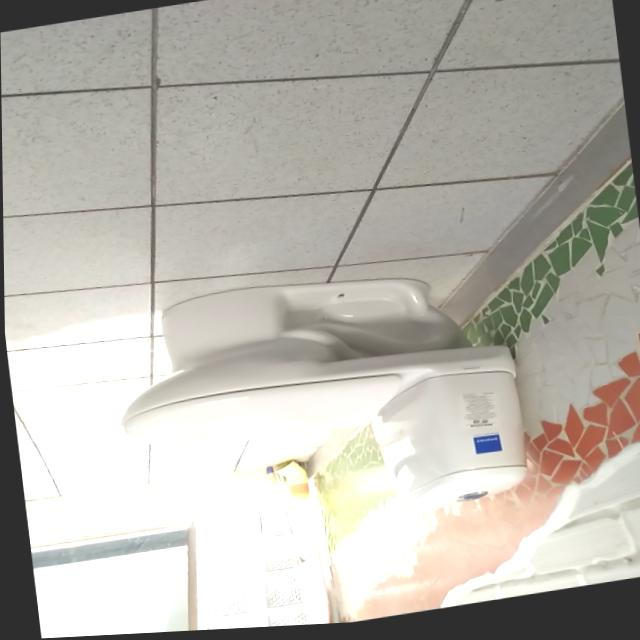toilet: (104, 251, 531, 557)
